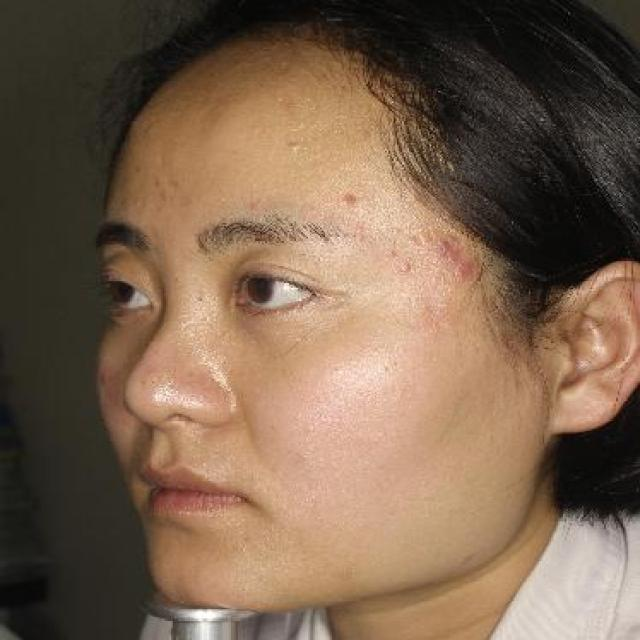papules: (426, 235, 469, 263), (450, 257, 476, 281)
pustules: (284, 134, 310, 157), (340, 192, 364, 208)
